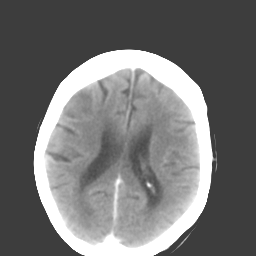ischemic: (152, 123, 188, 156)
